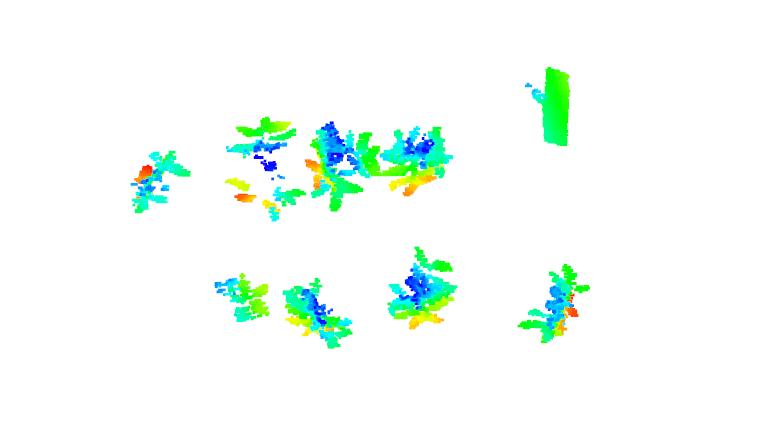chickpea: (225, 114, 304, 223), (304, 120, 381, 210), (515, 263, 593, 348), (386, 244, 458, 332), (381, 125, 456, 196), (284, 276, 354, 352), (126, 146, 197, 220), (210, 271, 273, 324)
